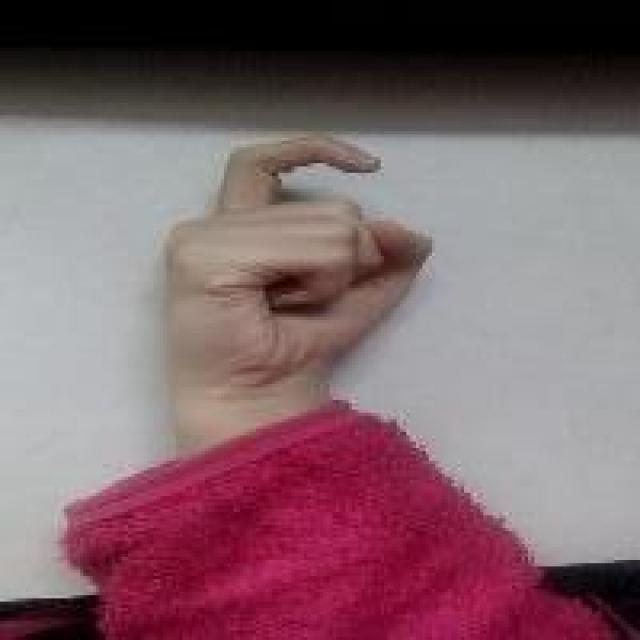X: (157, 131, 438, 429)
